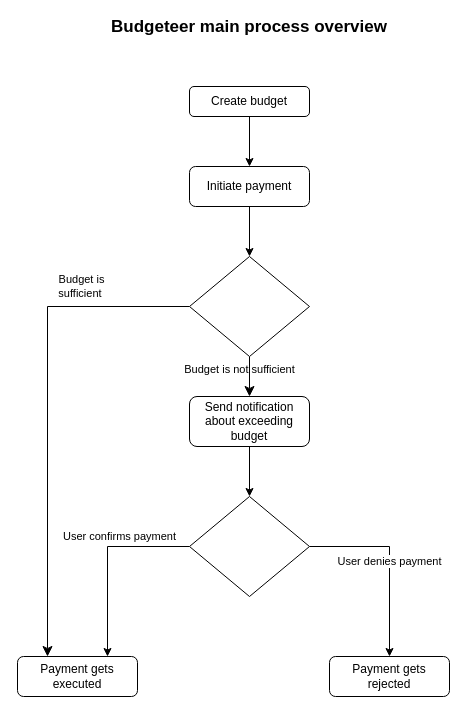
The diagram is 467 pixels wide and 714 high, and some of its shapes have lost their labels. The centre of each missing label's shape, as x and y in pixels:
"Ask user for payment confirmation" goes at (x=249, y=546).
"Check payment against budget" goes at (x=249, y=306).
